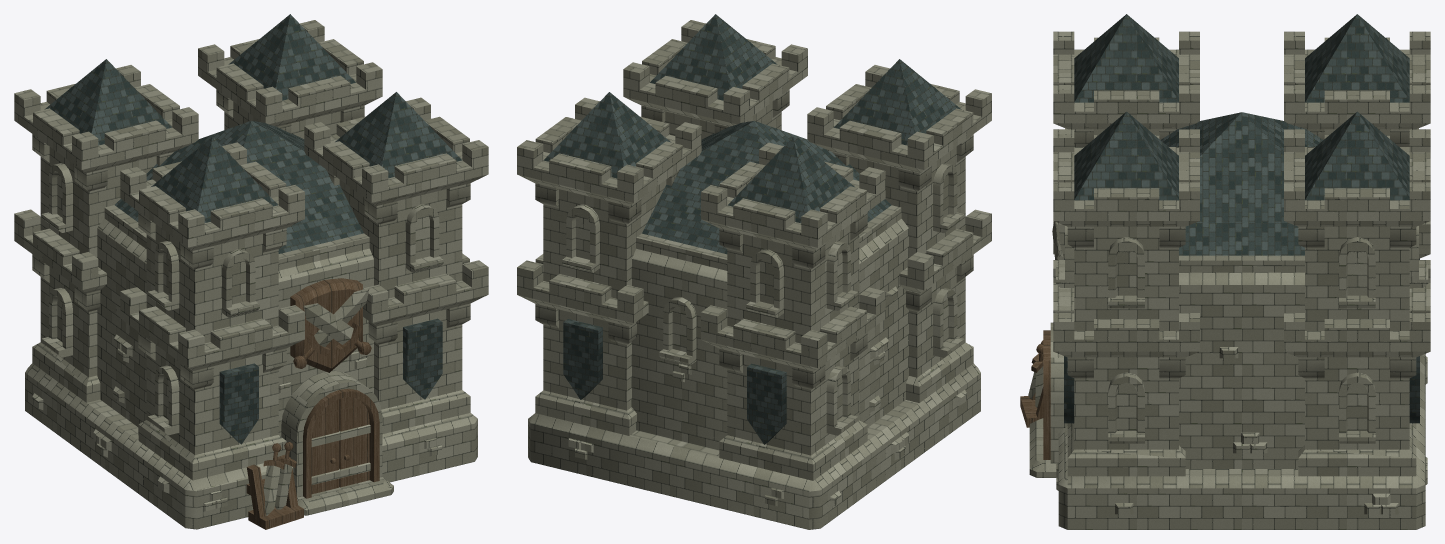
The model's file is tavern.glb.
3 views of the same model, side by side, from view 1: azimuth 30°, elevation 25°; view 2: azimuth 150°, elevation 25°; view 3: azimuth 270°, elevation 25° (orthographic). The views are drawn at different scales.
Visible parts, largest first — view 1: building_barracks_green; view 2: building_barracks_green; view 3: building_barracks_green.
Boxes of the visible parts, x1=… form: building_barracks_green: x1=14, y1=14, x2=488, y2=529; building_barracks_green: x1=517, y1=14, x2=991, y2=529; building_barracks_green: x1=1020, y1=14, x2=1430, y2=529.
Size of the model in its own units: 1.44 by 1.64 by 1.57.
Materials: 3 (3 with a texture image).
